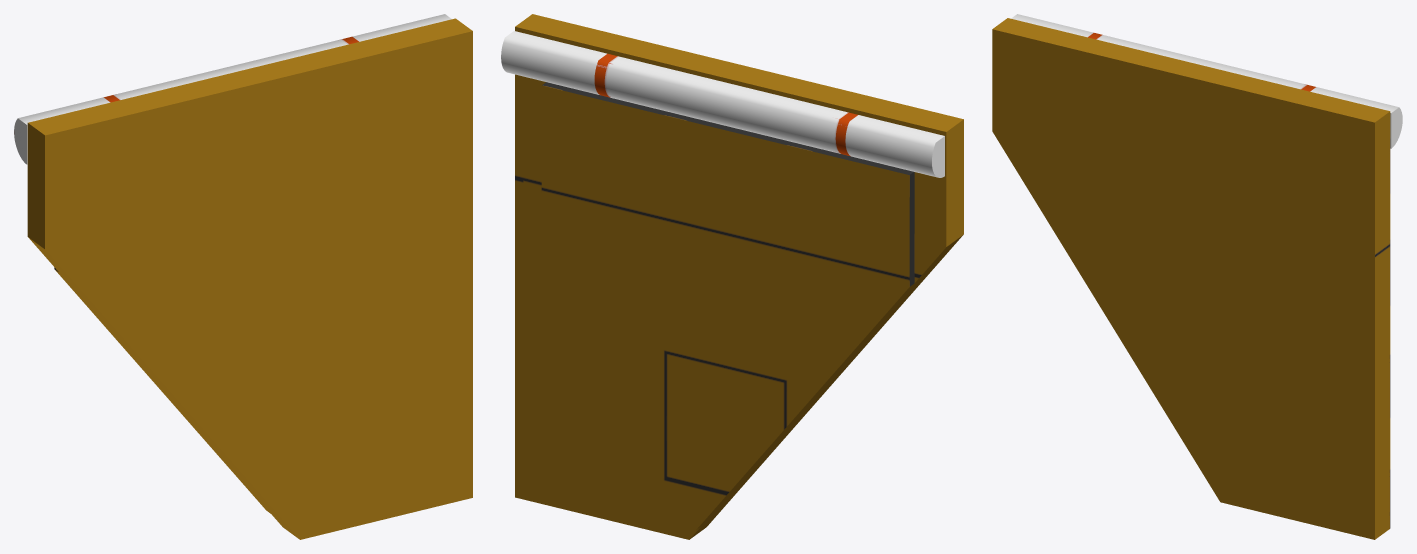
Rendered from wallTextCornerRight.fbx.
3 renders of one model, left to right at view 1: azimuth 30°, elevation 25°; view 2: azimuth 150°, elevation 25°; view 3: azimuth 330°, elevation 25°, orthographic. The views are drawn at different scales.
Visible parts, largest first — view 1: wall, Cylinder; view 2: wall, Cylinder; view 3: wall, Cylinder.
Part boxes in pixels (x1,y1,x2,y2): wall: (27,18,472,539); Cylinder: (14,14,451,164); wall: (515,14,963,539); Cylinder: (501,31,944,177); wall: (992,18,1390,539); Cylinder: (1011,14,1402,148).
Size of the model in its own units: 262 by 273 by 33.41.
Materials: 2 (2 with a texture image).
